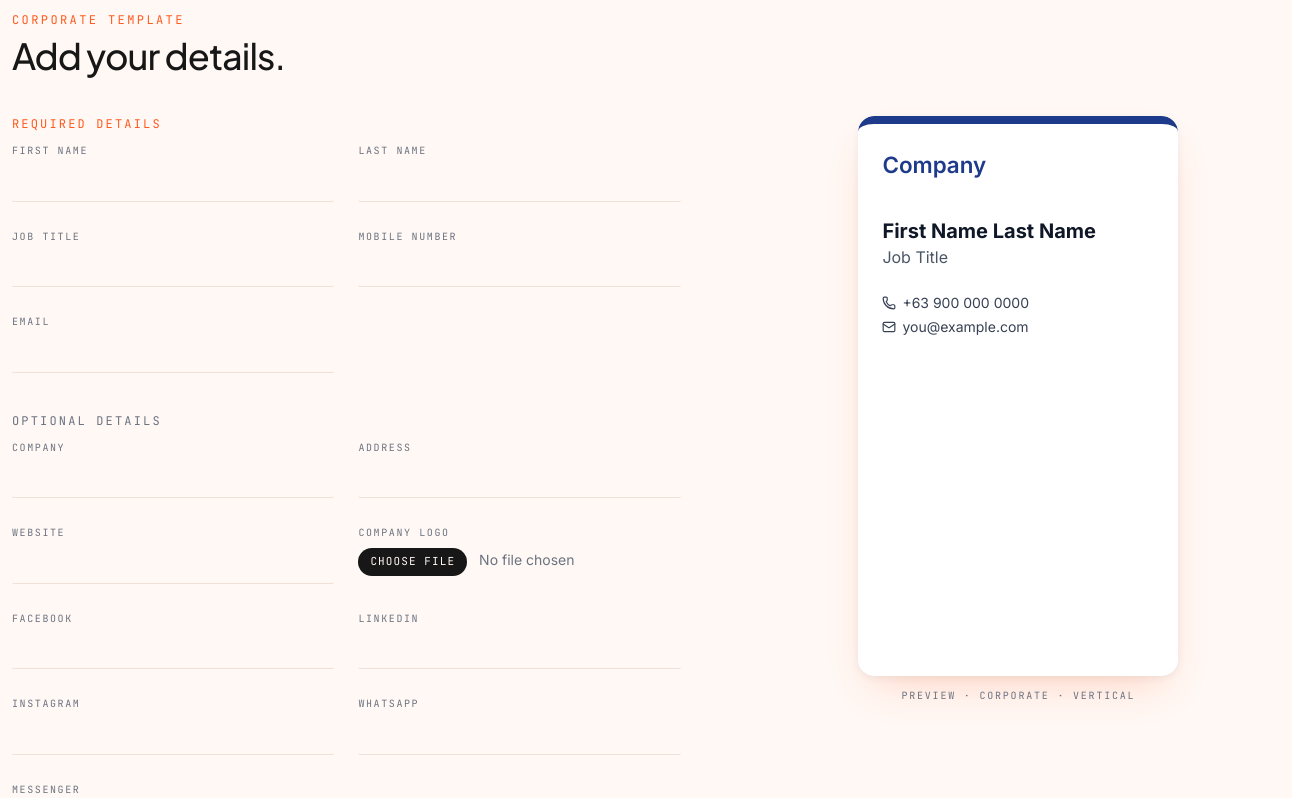
Test: BuilderWizard › surfaces a visible error when a patch is rejected
In the field labelled "First name": (173, 184) [12,166,334,202], type "x"
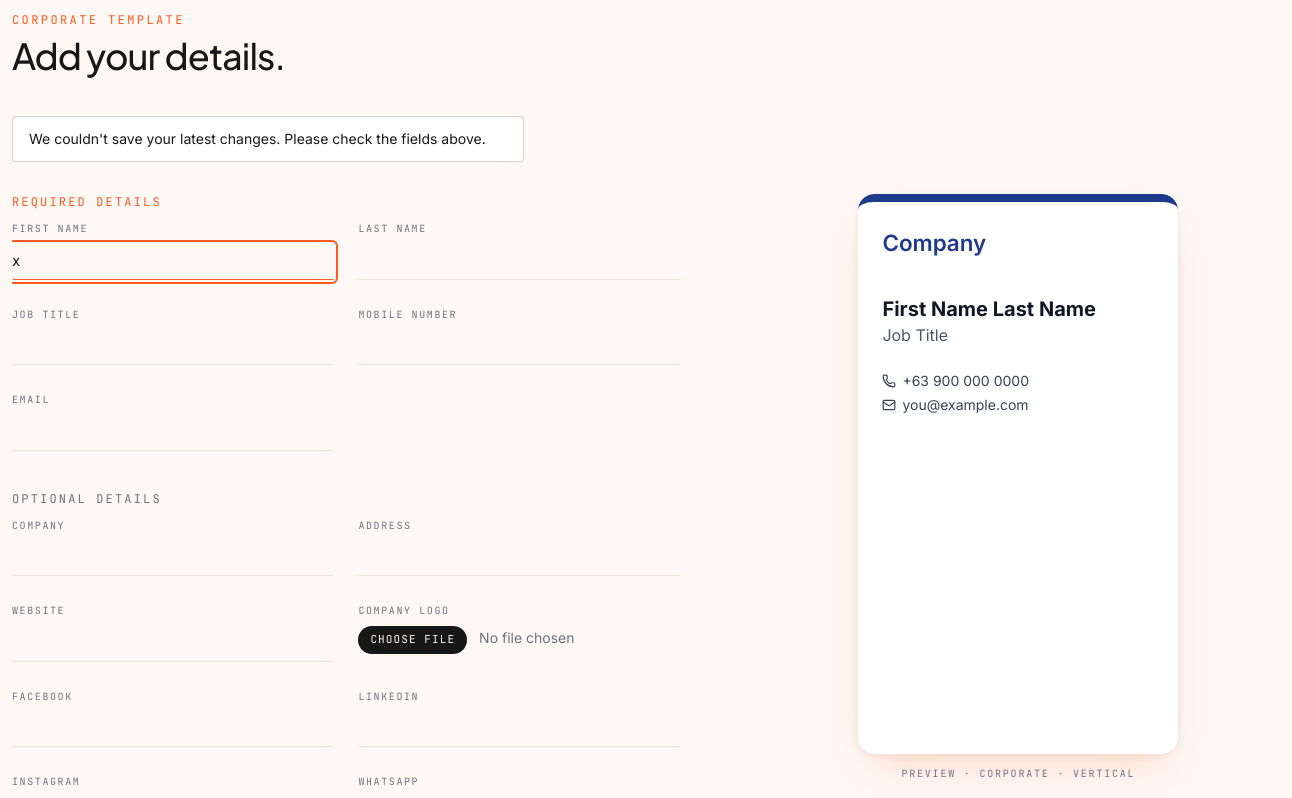
Check: the text "We couldn't save your latest changes. Please check the fields above." is shown, box [12,116,524,162]
